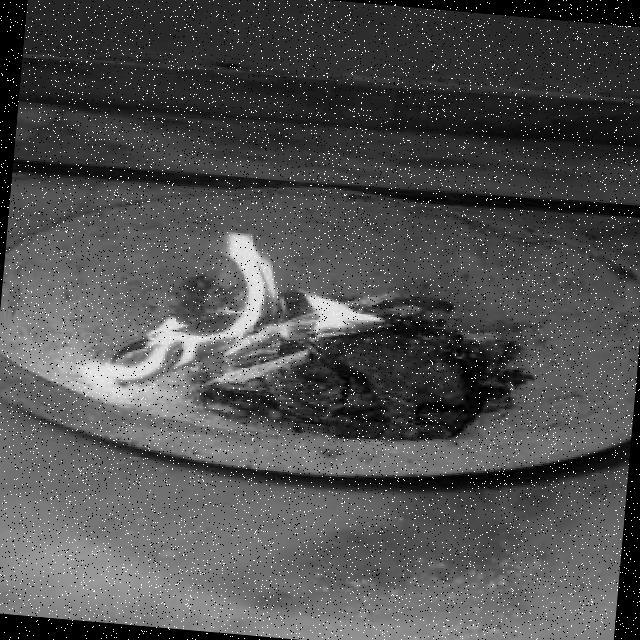Fire: (92, 227, 387, 411)
